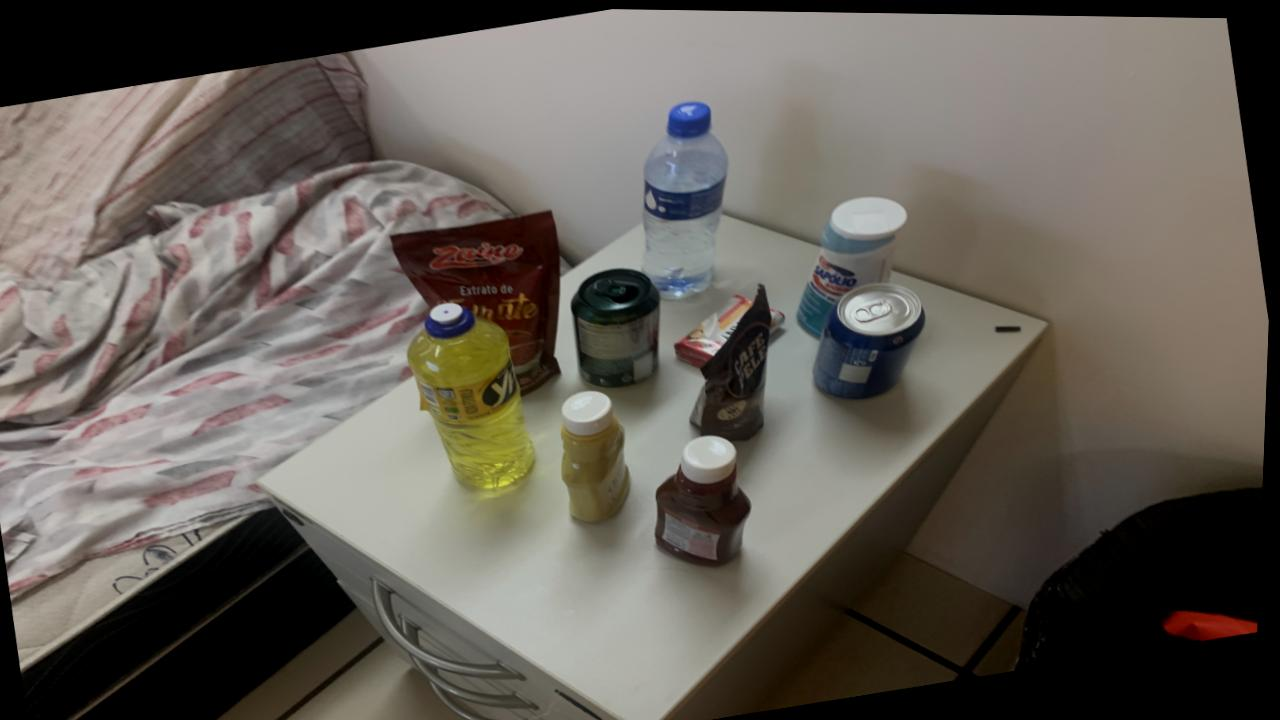Cleaner-Cleanup_Items: (799, 192, 909, 333)
Coffee-Pantry_Items: (692, 281, 774, 438)
Detergent-Cleanup_Items: (409, 300, 539, 487)
Guarana_Can-Drinks: (574, 266, 662, 385)
Ketchup-Pantry_Items: (658, 432, 754, 563)
Mustard-Pantry_Items: (563, 388, 634, 520)
Soap-Cleanup_Items: (676, 292, 754, 365), (772, 306, 787, 329)
Tomato_Sauce-Pantry_Items: (393, 208, 563, 392)
Tonic-Drinks: (815, 279, 928, 396)
Water_Bottle-Drinks: (644, 99, 729, 296)
